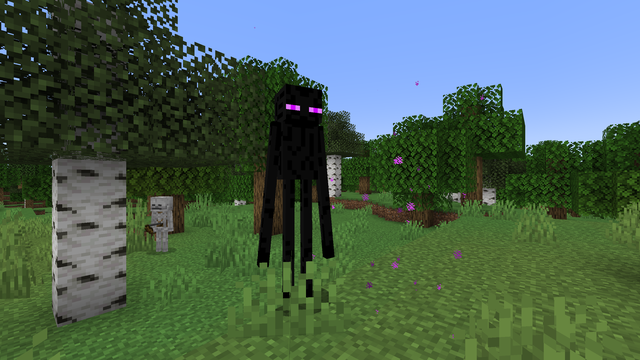endermens: (266, 73, 328, 313)
squelettes: (149, 196, 173, 254)
